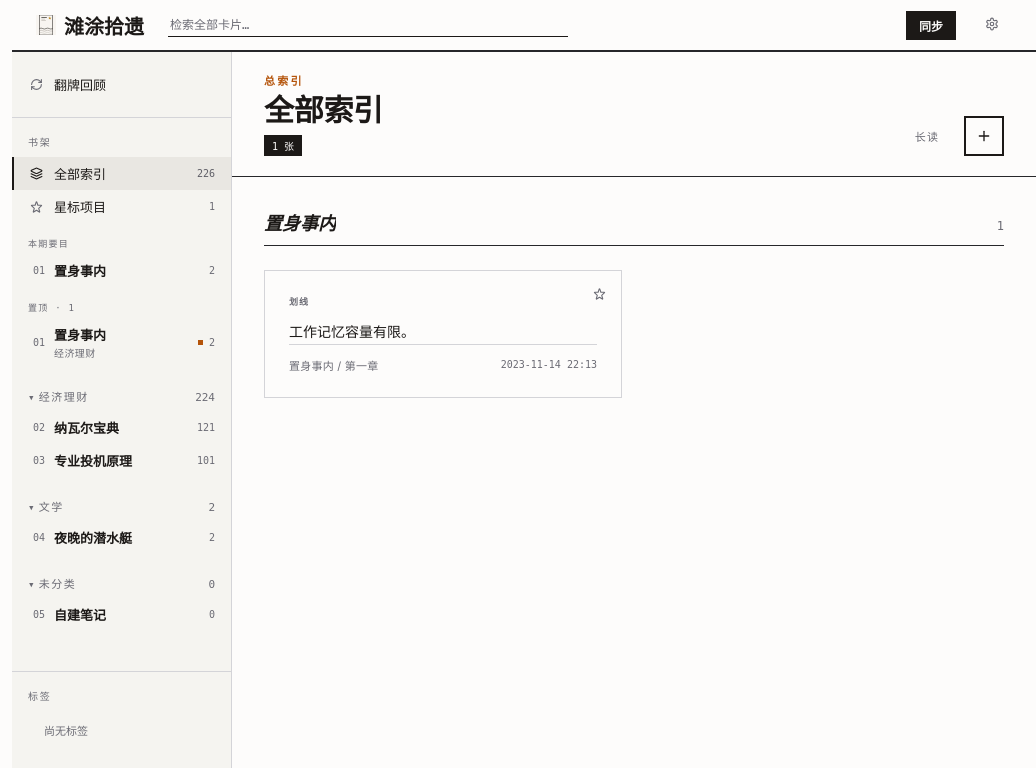
Test case: 侧栏分类层级树 › 编目号是终身号：把最后一本置顶，任何人的号都不动
Step 1. Click the button "05 自建笔记 0" → (122, 614), box [12,598,231,631]
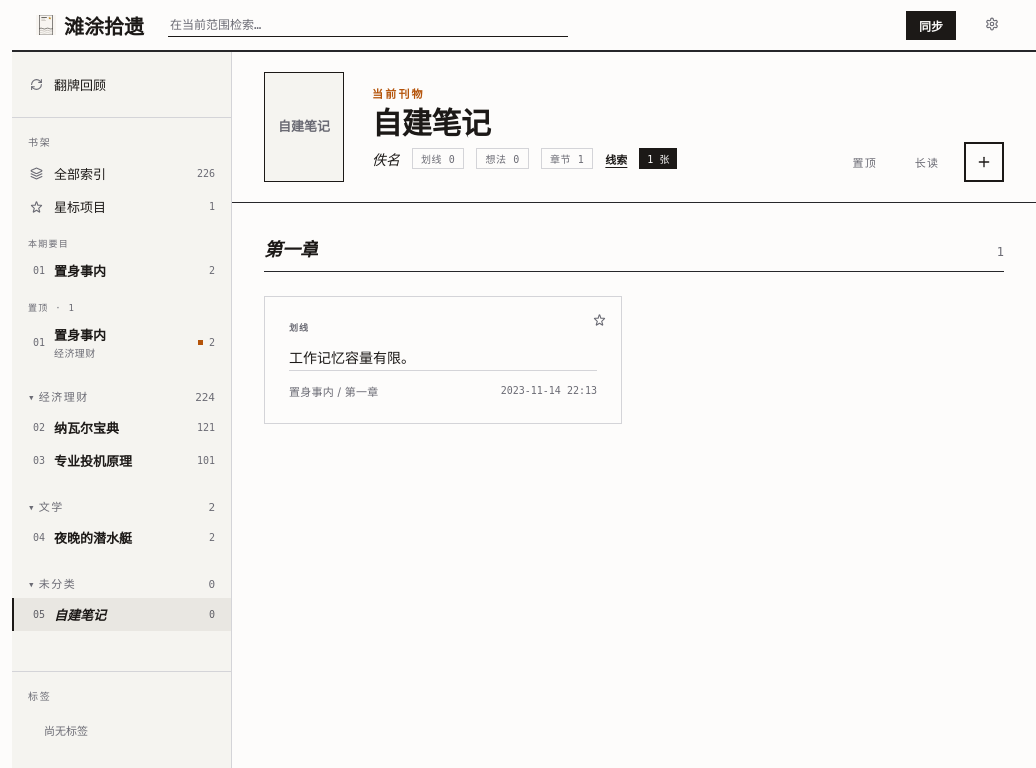
Step 2. Click the button "置顶" → (865, 162), box [840,147,890,177]
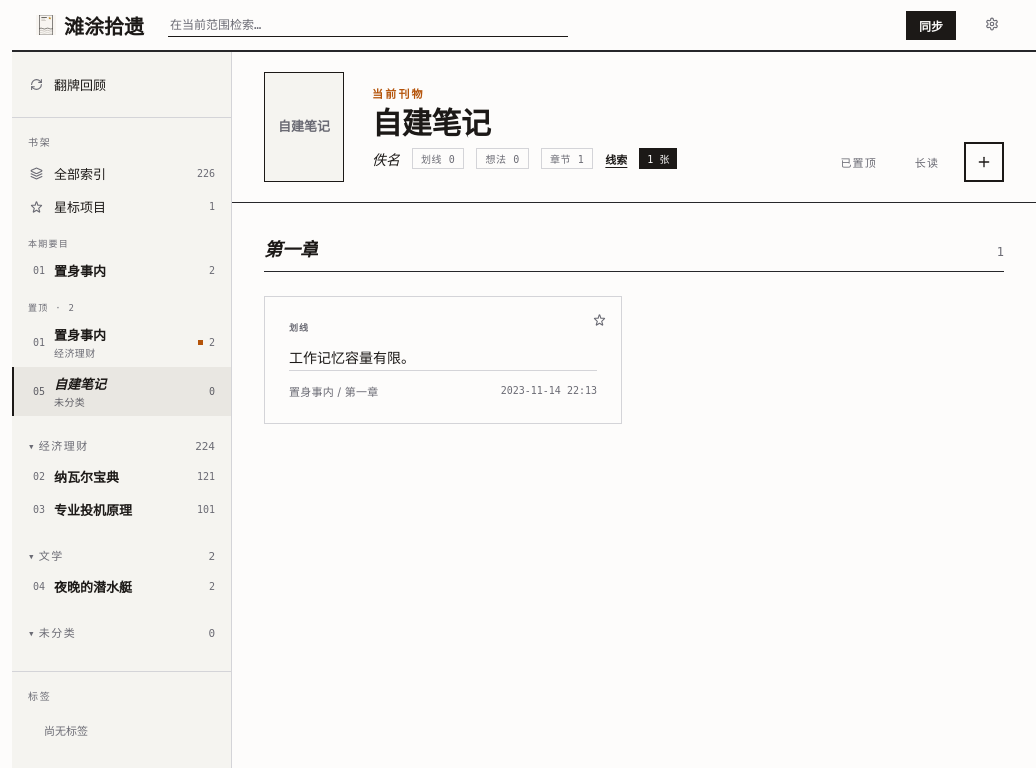
Check: the button "已置顶" is shown, box [828,147,890,177]
